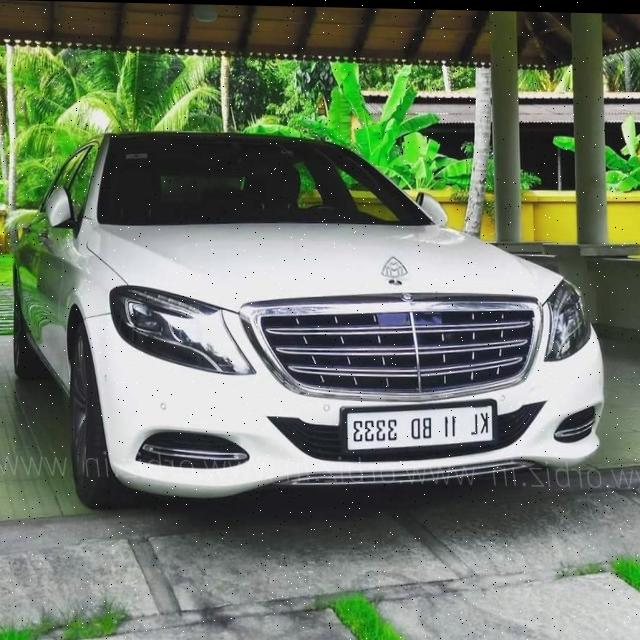plate: (341, 394, 499, 453)
